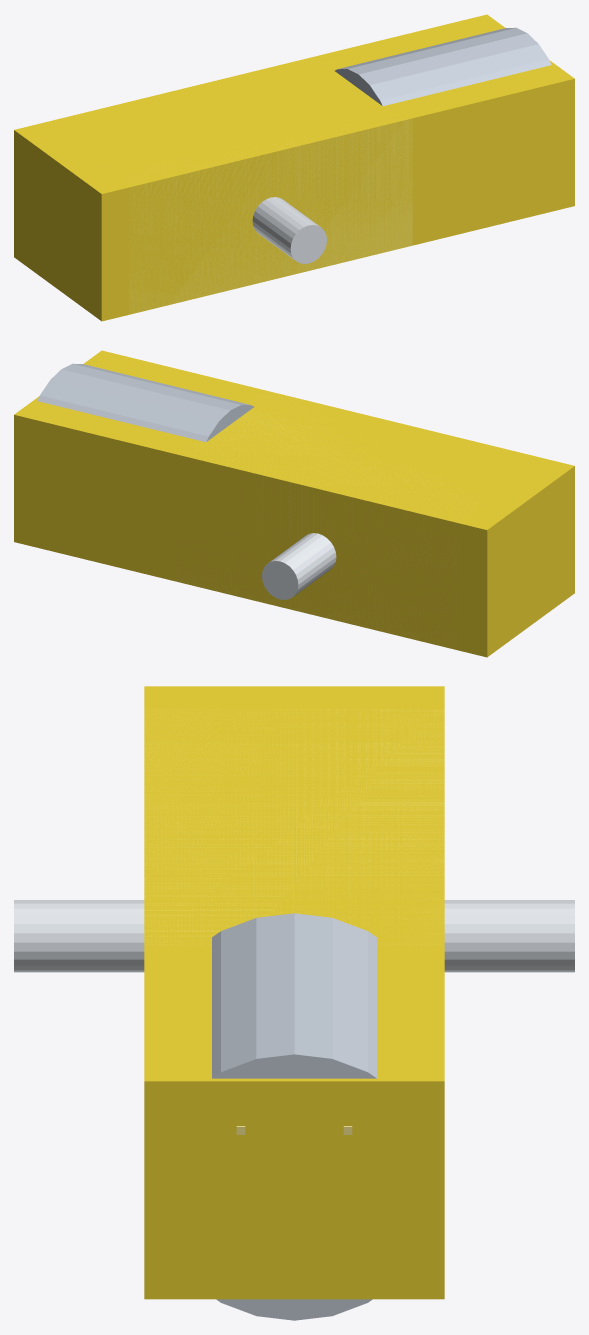
Rendered from dc-motor-generic-6v.glb.
The picture shows the model from 3 angles, top to bottom: view 1: azimuth 30°, elevation 25°; view 2: azimuth 150°, elevation 25°; view 3: azimuth 270°, elevation 25°; orthographic projection. The views are drawn at different scales.
Parts seen in each view (by area): view 1: dc-motor-generic-6v_mesh; view 2: dc-motor-generic-6v_mesh; view 3: dc-motor-generic-6v_mesh.
Part boxes in pixels (<box>): dc-motor-generic-6v_mesh: <box>14,14,574,321</box>; dc-motor-generic-6v_mesh: <box>14,350,574,657</box>; dc-motor-generic-6v_mesh: <box>14,686,574,1320</box>.
Bounding box in the file's own units: 70.2 × 22 × 42.
